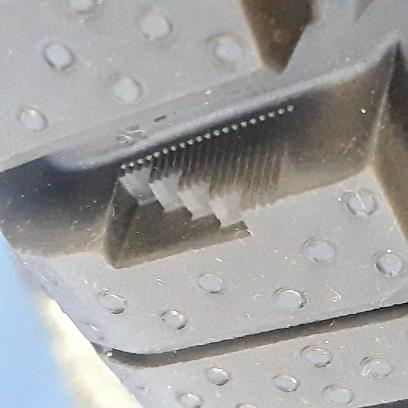temoin:100: (99, 100, 299, 272)
